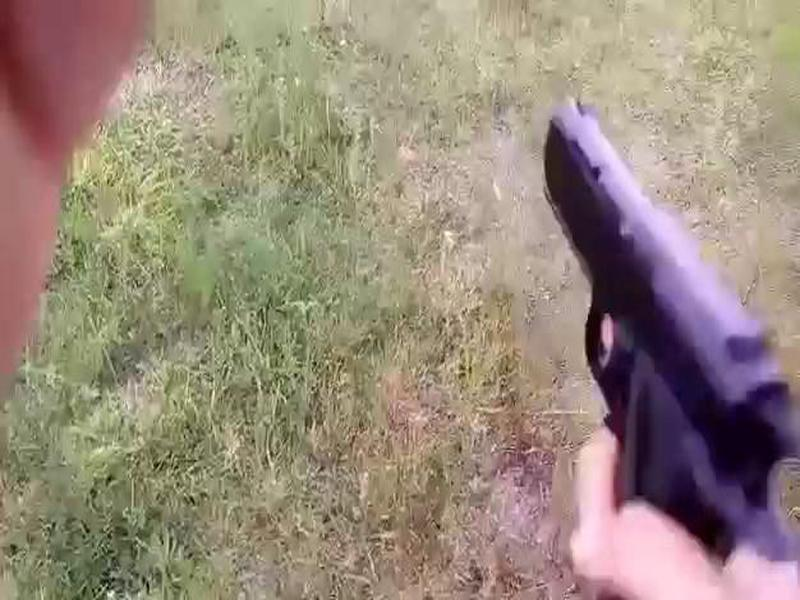Pistola: (496, 70, 787, 570)
